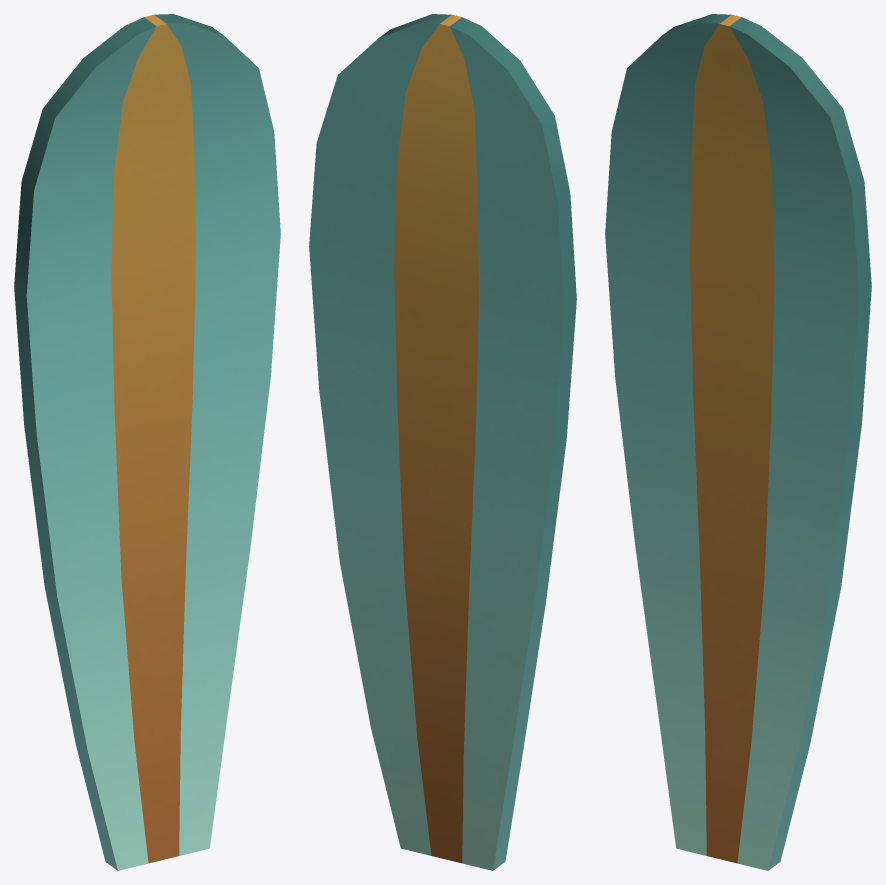
Rendered from Fbx_SurfBoard.fbx.
3 views of the same model, side by side, from view 1: azimuth 30°, elevation 25°; view 2: azimuth 150°, elevation 25°; view 3: azimuth 330°, elevation 25° (orthographic).
Visible parts, largest first — view 1: Surf Board; view 2: Surf Board; view 3: Surf Board.
Boxes of the visible parts, box(x1,y1,x2,y2) form: Surf Board: box(14, 14, 280, 870); Surf Board: box(309, 14, 576, 870); Surf Board: box(605, 14, 871, 870).
Size of the model in its own units: 3.28 by 10.28 by 0.5062.
